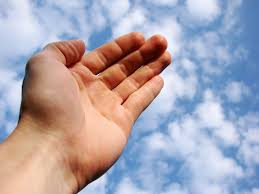hand: (16, 22, 176, 182)
